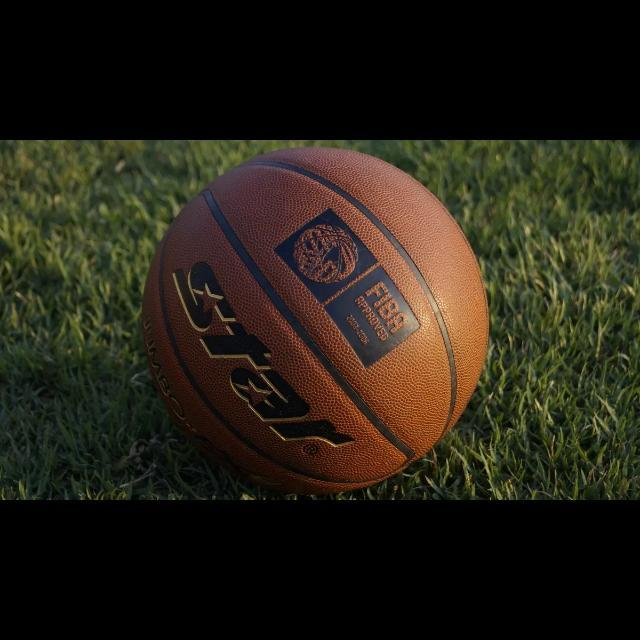basketball: (143, 148, 489, 494)
